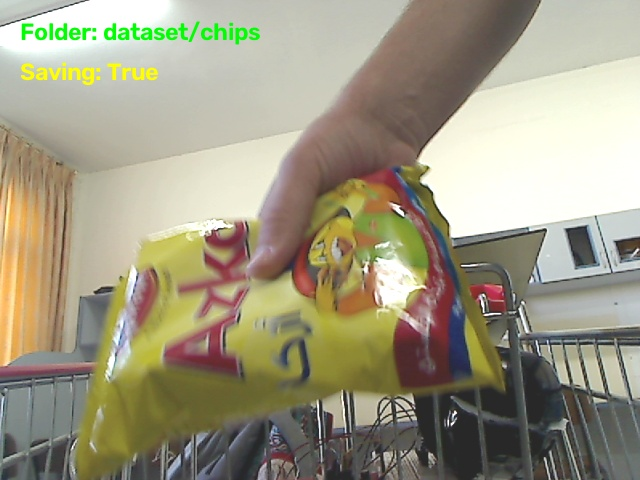chips: (76, 167, 501, 479)
